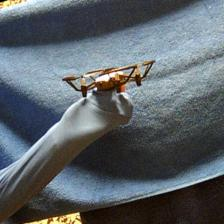drone: (64, 58, 156, 100)
